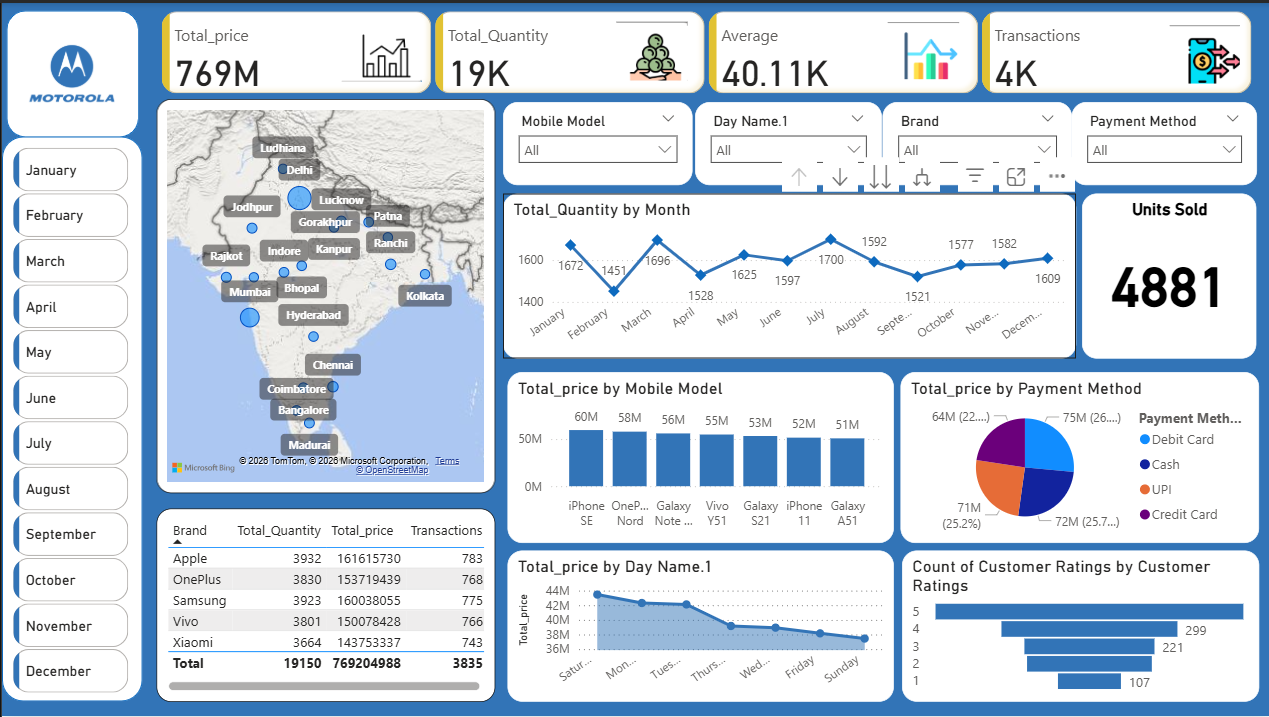

The page's visual inventory and layout, read from the dashboard file:
{"tool":"powerbi","page":{"name":"Page 1","canvas":[1280,720],"ordinal":0},"visuals":[{"type":"shape","box":[4.1,6.9,133.6,128.1],"z":0},{"type":"image","box":[12.4,16.5,117.1,107.5],"z":1000},{"type":"shape","box":[0,135,141.9,570.3],"z":2000},{"type":"advancedSlicerVisual","fields":{"Values":["Sheet1.Date.Variation.Date Hierarchy.Month"]},"box":[5.5,140.5,126.7,564.8],"z":3000},{"type":"cardVisual","fields":{"Data":["Sales_data.Total_price","Sales_data.Total_Quantity","Sales_data.Average","Sales_data.Total_transactions"]},"box":[156,3,1112.9,93.9],"z":4000},{"type":"map","fields":{"Category":["Sales_data.City"],"Size":["Sales_data.Total_price"]},"box":[156,96.9,342.2,398.2],"z":5000},{"type":"clusteredColumnChart","fields":{"Category":["Sales_data.Mobile Model"],"Y":["Sales_data.Total_price"]},"box":[510.3,372.5,390,172.6],"z":6000},{"type":"pieChart","fields":{"Category":["Sales_data.Payment Method"],"Y":["Sales_data.Total_price"]},"box":[907,372.5,361.9,172.6],"z":7000},{"type":"funnel","fields":{"Category":["Sales_data.Customer Ratings"],"Y":["CountNonNull(Sales_data.Customer Ratings)"]},"box":[907.8,552.4,360.9,152.9],"z":8000},{"type":"areaChart","fields":{"Category":["Sales_data.Day Name.1"],"Y":["Sales_data.Total_price"]},"box":[509.7,552.4,389.9,152.9],"z":9000},{"type":"tableEx","fields":{"Values":["Sales_data.Brand","Sales_data.Total_Quantity","Sales_data.Total_price","Sales_data.Transactions"]},"box":[156,510.3,342.2,195.3],"z":10000},{"type":"slicer","fields":{"Values":["Sales_data.Payment Method"]},"box":[1080,100.6,187.4,84],"z":11000},{"type":"slicer","fields":{"Values":["Sales_data.Mobile Model"]},"box":[505.6,100.6,191.5,84],"z":12000},{"type":"slicer","fields":{"Values":["Sales_data.Day Name.1"]},"box":[699.8,100.6,188.7,84],"z":13000},{"type":"slicer","fields":{"Values":["Sales_data.Brand"]},"box":[888.5,100.6,191.5,84],"z":14000},{"type":"kpi","title":"Units Sold","fields":{"Indicator":["Sum(Sales_data.Units Sold)"],"TrendLine":["Sales_data.Date.Variation.Date Hierarchy.Year"]},"box":[1089.7,192.9,176,166.7],"z":15000},{"type":"lineChart","fields":{"Category":["Sales_data.Date.Variation.Date Hierarchy.Month","Sales_data.Date.Variation.Date Hierarchy.Day"],"Y":["Sales_data.Total_Quantity"]},"box":[505.6,192.9,578.6,166.7],"z":16000},{"type":"image","box":[337.7,0,90.9,92.4],"z":17000},{"type":"image","box":[1173.7,16.5,81.3,70.3],"z":18000},{"type":"image","box":[888.5,6.9,82.7,81.3],"z":19000},{"type":"image","box":[614.4,6.9,82.7,82.7],"z":20000}]}

Visuals, with their boxes in screenshot pixels (x1, y1, x2, y2), scaled from the page's 1280x720 canvas onto the 1269x717 screenshot:
shape: box(4, 7, 137, 134)
image: box(12, 16, 128, 123)
shape: box(0, 134, 141, 702)
advancedSlicerVisual - Sheet1.Date.Variation.Date Hierarchy.Month: box(5, 140, 131, 702)
cardVisual - Sales_data.Total_price x Sales_data.Total_Quantity: box(155, 3, 1258, 96)
map - Sales_data.City x Sales_data.Total_price: box(155, 96, 494, 493)
clusteredColumnChart - Sales_data.Mobile Model x Sales_data.Total_price: box(506, 371, 893, 543)
pieChart - Sales_data.Payment Method x Sales_data.Total_price: box(899, 371, 1258, 543)
funnel - Sales_data.Customer Ratings x CountNonNull(Sales_data.Customer Ratings): box(900, 550, 1258, 702)
areaChart - Sales_data.Day Name.1 x Sales_data.Total_price: box(505, 550, 892, 702)
tableEx - Sales_data.Brand x Sales_data.Total_Quantity: box(155, 508, 494, 703)
slicer - Sales_data.Payment Method: box(1071, 100, 1257, 184)
slicer - Sales_data.Mobile Model: box(501, 100, 691, 184)
slicer - Sales_data.Day Name.1: box(694, 100, 881, 184)
slicer - Sales_data.Brand: box(881, 100, 1071, 184)
"Units Sold" kpi: box(1080, 192, 1255, 358)
lineChart - Sales_data.Date.Variation.Date Hierarchy.Month x Sales_data.Date.Variation.Date Hierarchy.Day: box(501, 192, 1075, 358)
image: box(335, 0, 425, 92)
image: box(1164, 16, 1244, 86)
image: box(881, 7, 963, 88)
image: box(609, 7, 691, 89)
